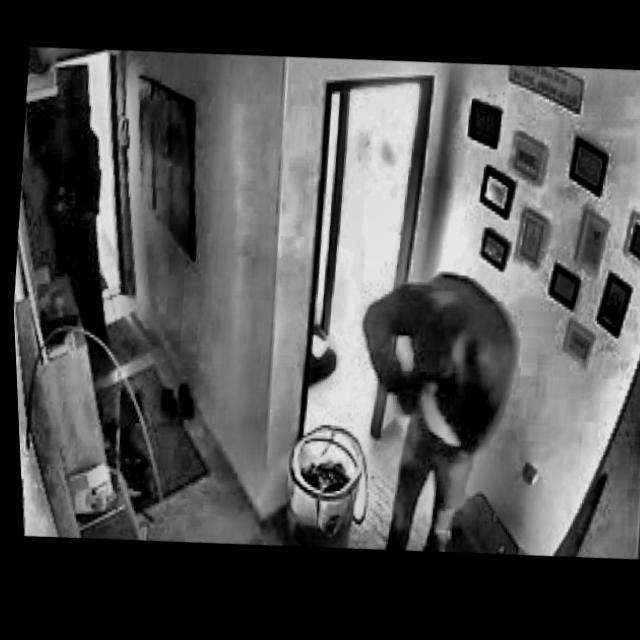burglary: (332, 263, 533, 568)
